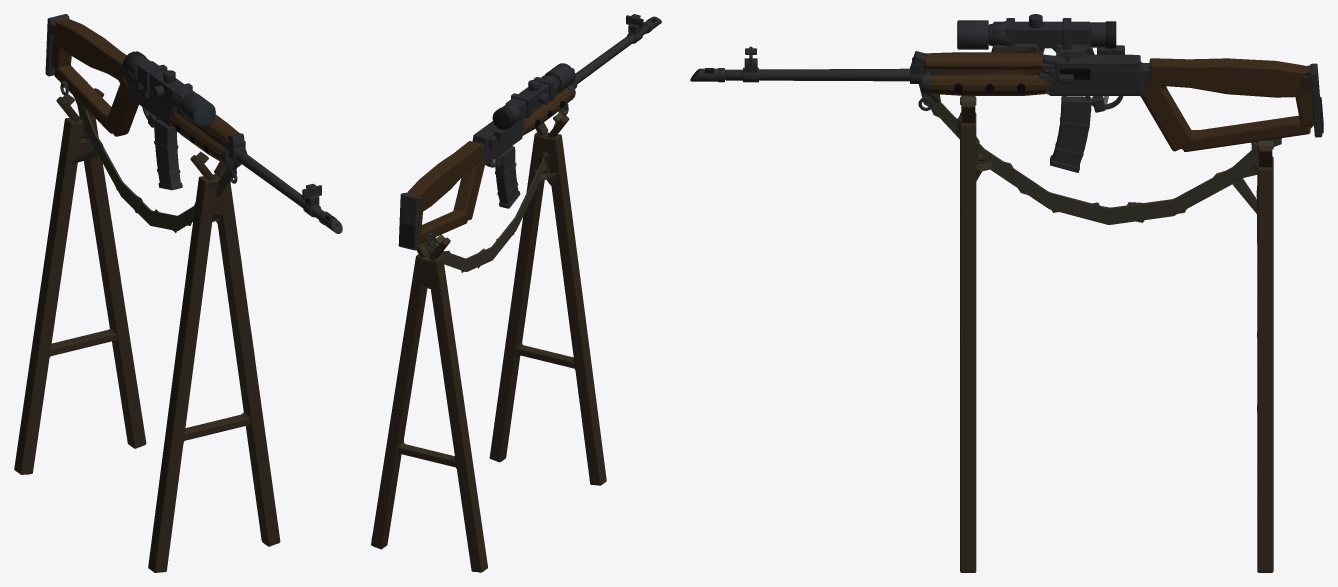
File: sniper_e.glb
3 views of the same model, side by side, from view 1: azimuth 30°, elevation 25°; view 2: azimuth 150°, elevation 25°; view 3: azimuth 270°, elevation 25° (orthographic). The views are drawn at different scales.
Parts seen in each view (by area): view 1: L0_01_hull_opaque, L1_02_hull_opaque, L2_03_hull_opaque; view 2: L0_01_hull_opaque, L1_02_hull_opaque, L2_03_hull_opaque; view 3: L0_01_hull_opaque, L1_02_hull_opaque, L2_03_hull_opaque.
Boxes of the visible parts, box(x1,y1,x2,y2) form: L0_01_hull_opaque: box(14, 14, 342, 572); L1_02_hull_opaque: box(15, 16, 280, 572); L2_03_hull_opaque: box(22, 95, 272, 565); L0_01_hull_opaque: box(371, 14, 661, 572); L1_02_hull_opaque: box(375, 53, 618, 567); L2_03_hull_opaque: box(371, 109, 598, 572); L0_01_hull_opaque: box(690, 14, 1323, 572); L1_02_hull_opaque: box(841, 30, 1319, 571); L2_03_hull_opaque: box(918, 84, 1281, 566).
Bounding box in the file's own units: 0.2989 × 1.06 × 1.17.
